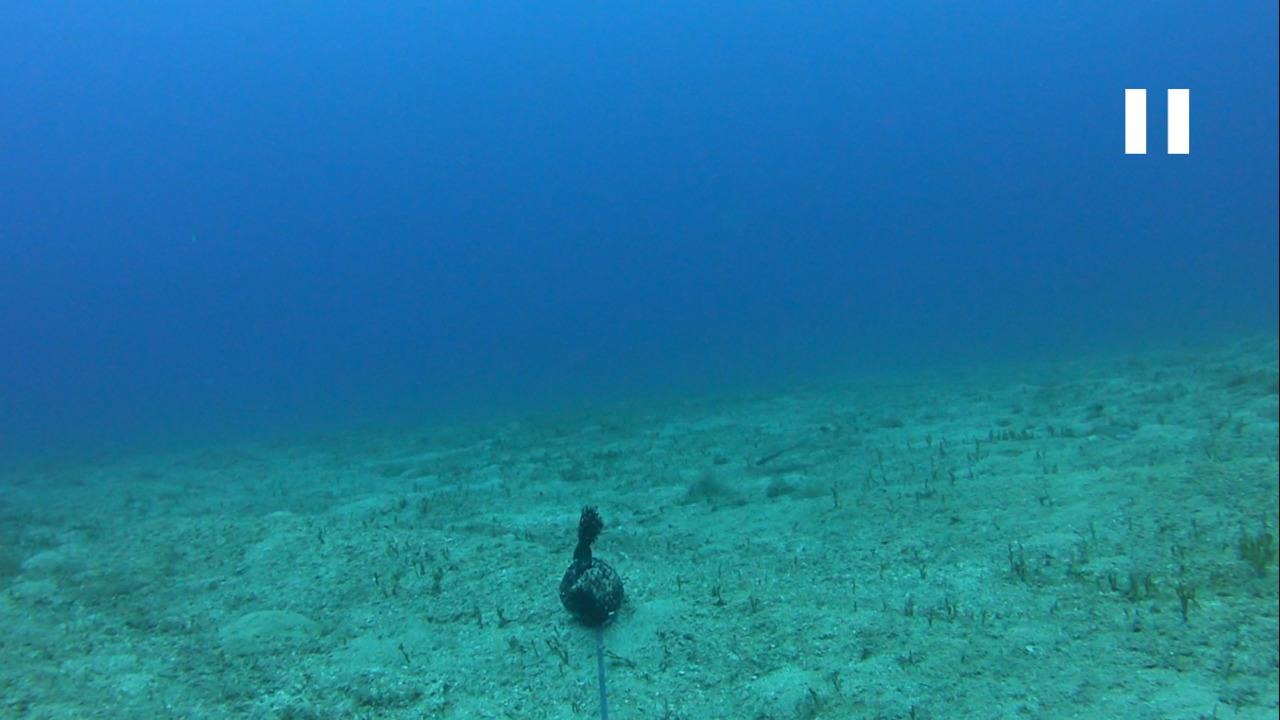dactylopterus: (704, 419, 847, 472)
